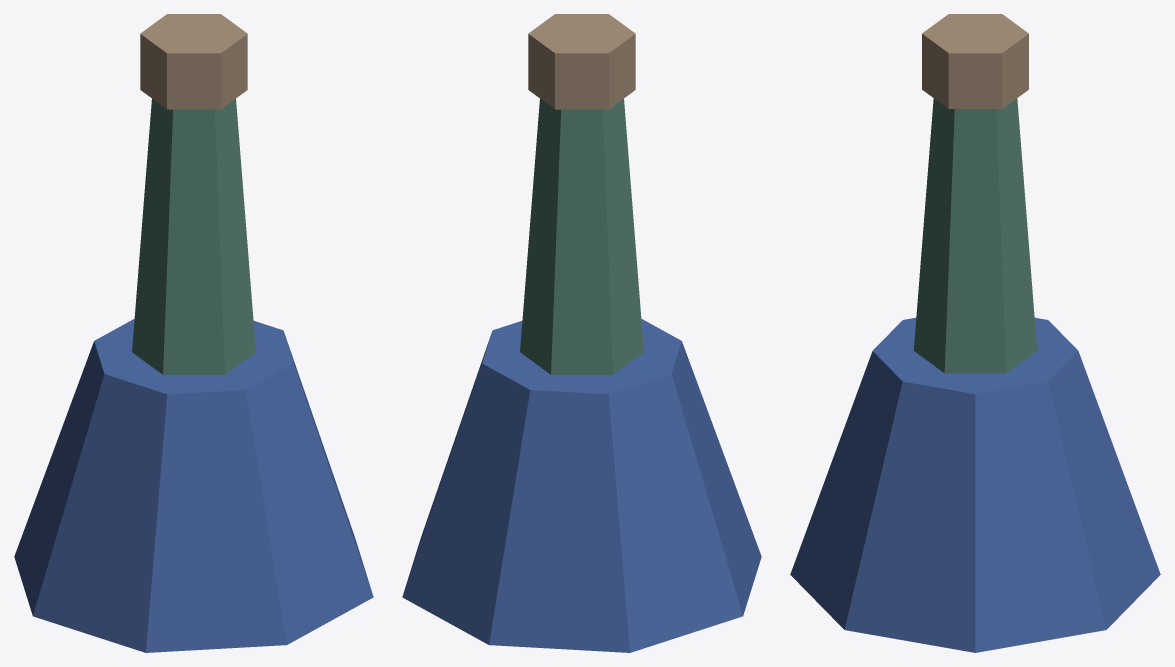
The model's file is potion_2_2.glb.
The picture shows the model from 3 angles, left to right: view 1: azimuth 30°, elevation 25°; view 2: azimuth 150°, elevation 25°; view 3: azimuth 270°, elevation 25°; orthographic projection.
Parts seen in each view (by area): view 1: Potion_2_2; view 2: Potion_2_2; view 3: Potion_2_2.
Boxes of the visible parts, bbox=[...] form: Potion_2_2: bbox=[14, 14, 373, 652]; Potion_2_2: bbox=[402, 14, 761, 652]; Potion_2_2: bbox=[790, 14, 1160, 652].
Size of the model in its own units: 0.27 by 0.435 by 0.27.
